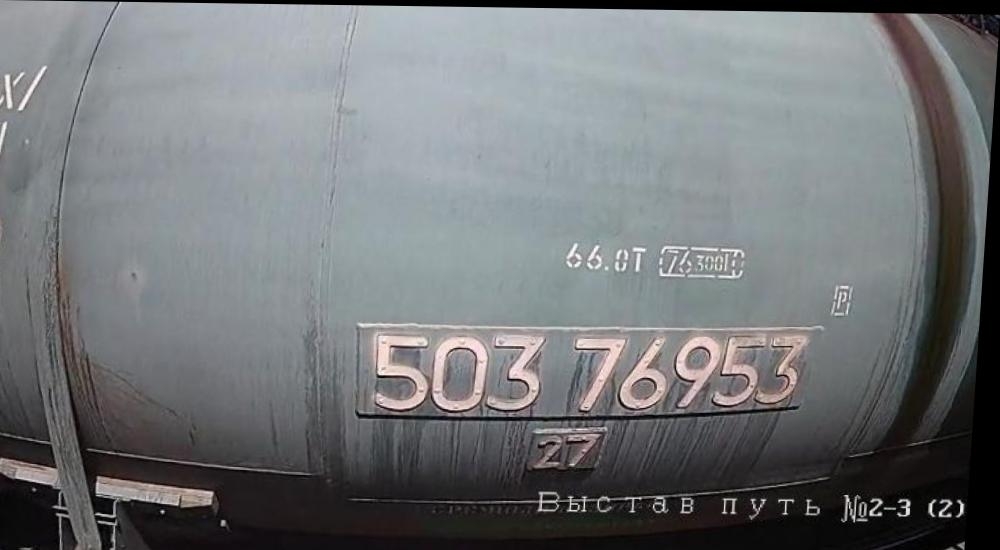Wagon-number: (361, 324, 818, 421)
